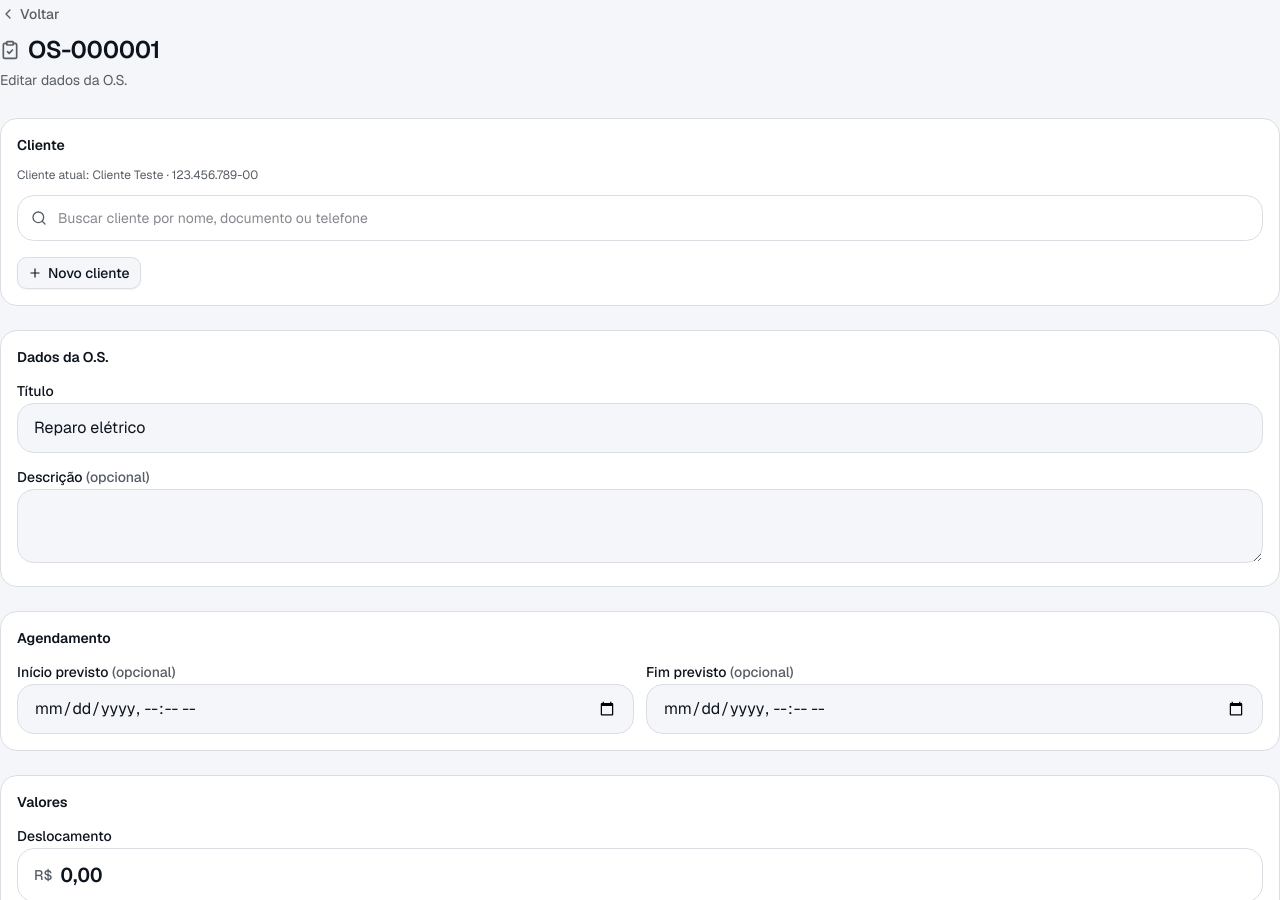
Scenario: ServiceOrderEdit › Customer-detail ordering guarantees (bug #3 hardening) › CDO1: a slow initial customer-detail fetch resolving late never overwrites an already-selected different customer
Expected: the text "Cliente atual: Cliente Teste · 123.456.789-00" is shown, [17,167,258,183]
Type "Cliente B" into the dropdown labelled "Buscar cliente por nome, documento ou telefone".
click(640, 218); type("Cliente B")  # box [17,195,1263,241]
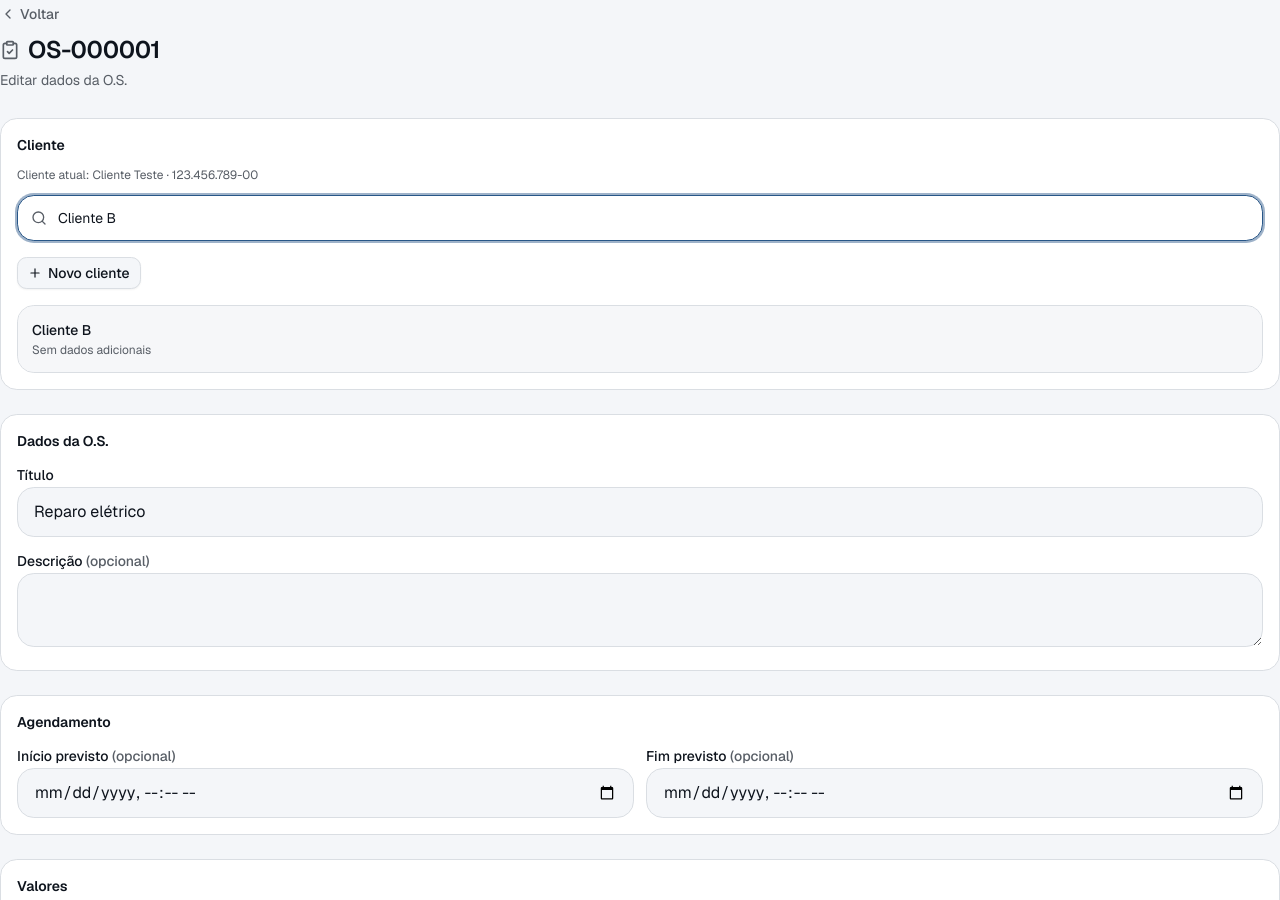
Now the text "Cliente B" is shown
Click the text "Cliente B".
click(62, 330)  # box [32,320,91,340]
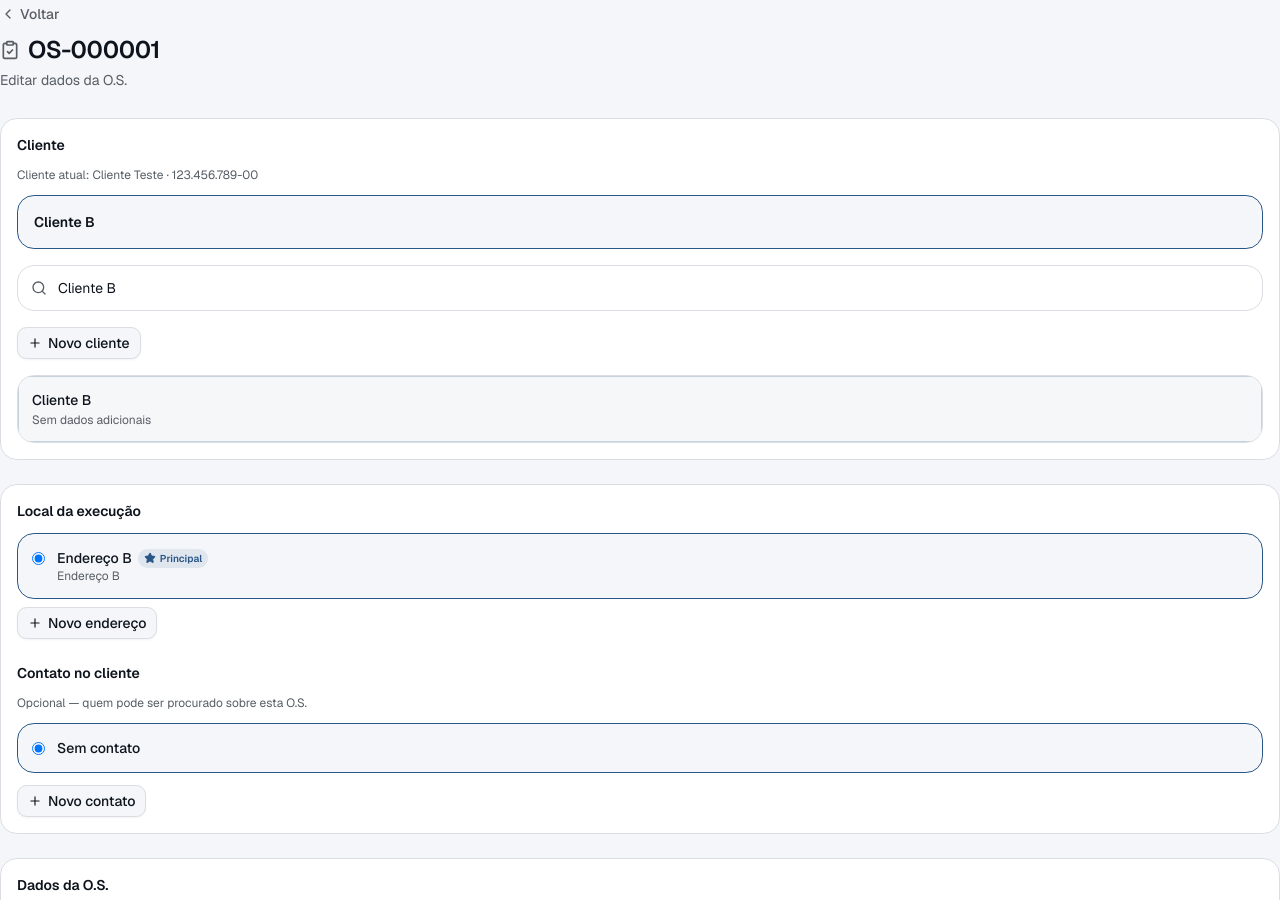
Now the radio button labelled "Endereço B Principal Endereço B" is checked, box [32,552,45,565]
